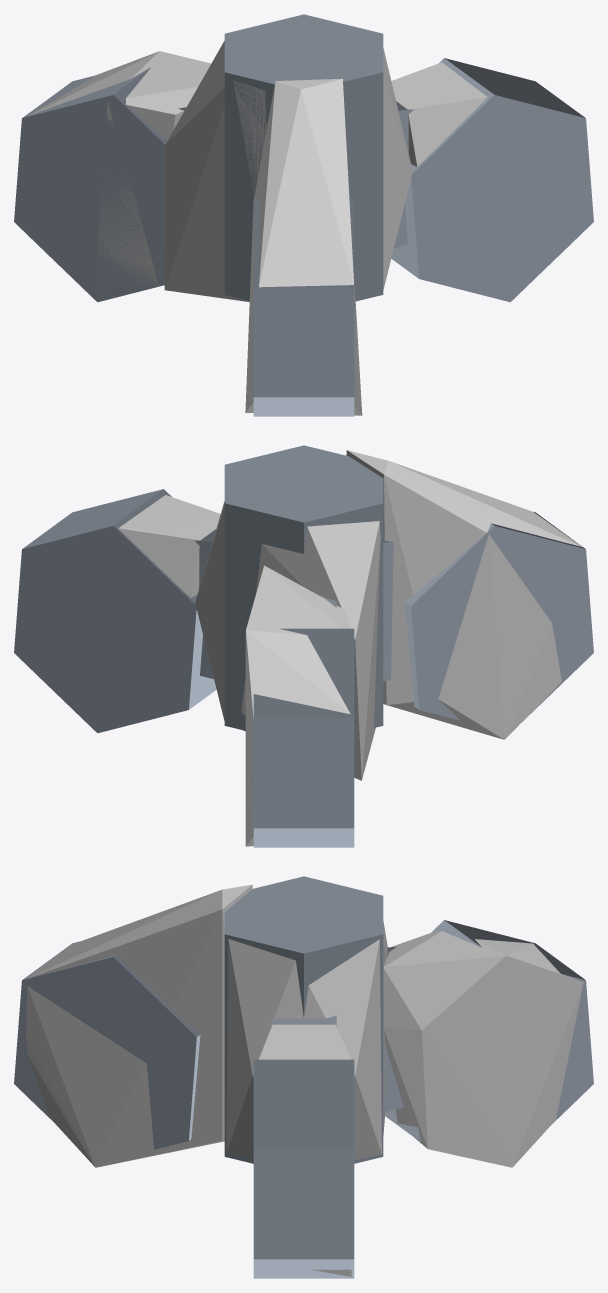
Rendered from SM_Prop_Signal_Horn_01.fbx.
3 renders of one model, top to bottom at view 1: azimuth 30°, elevation 25°; view 2: azimuth 150°, elevation 25°; view 3: azimuth 270°, elevation 25°, orthographic.
Parts seen in each view (by area): view 1: SM_Prop_Signal_Horn_01, SM_Prop_Signal_Horn_01_ConvexHulls; view 2: SM_Prop_Signal_Horn_01, SM_Prop_Signal_Horn_01_ConvexHulls; view 3: SM_Prop_Signal_Horn_01_ConvexHulls, SM_Prop_Signal_Horn_01.
Boxes of the visible parts, x1,y1,x2,y2 form: SM_Prop_Signal_Horn_01: [14, 14, 593, 416]; SM_Prop_Signal_Horn_01_ConvexHulls: [29, 41, 487, 415]; SM_Prop_Signal_Horn_01: [14, 445, 593, 847]; SM_Prop_Signal_Horn_01_ConvexHulls: [118, 450, 581, 846]; SM_Prop_Signal_Horn_01_ConvexHulls: [25, 884, 583, 1276]; SM_Prop_Signal_Horn_01: [14, 876, 593, 1278].
Size of the model in its own units: 22.6 by 26.1 by 13.95.
Materials: 2 (1 with a texture image).
